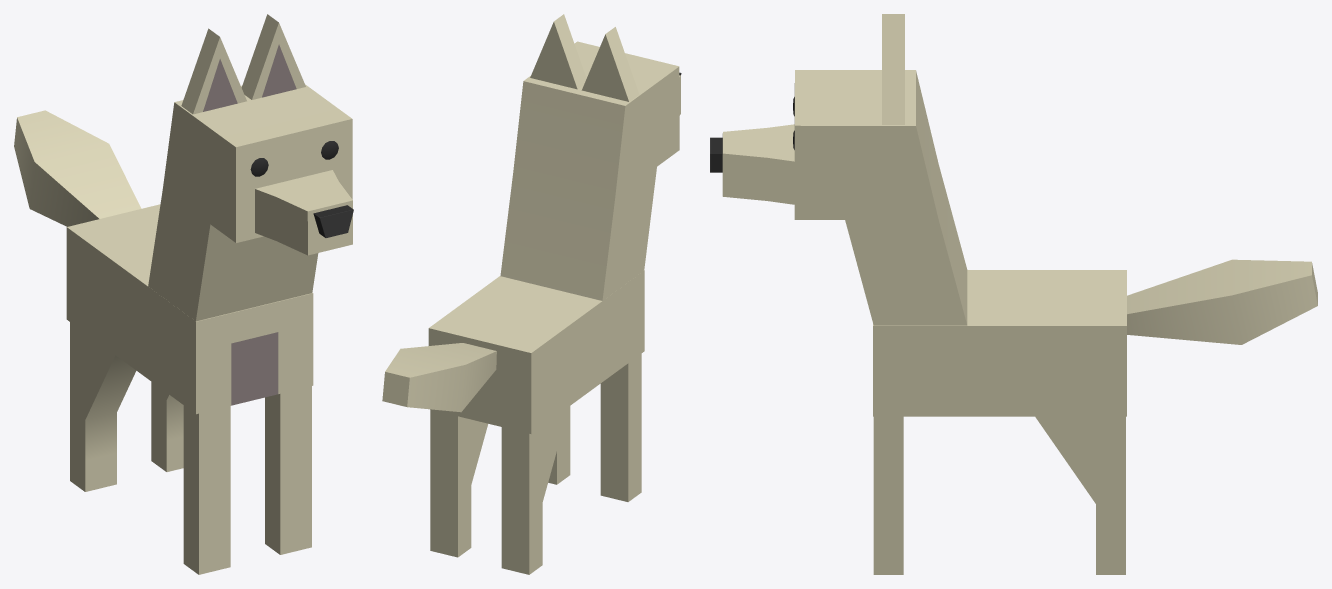
File: BBakGoo.fbx
3 views of the same model, side by side, from view 1: azimuth 30°, elevation 25°; view 2: azimuth 150°, elevation 25°; view 3: azimuth 270°, elevation 25° (orthographic). The views are drawn at different scales.
Visible parts, largest first — view 1: BBackGoo; view 2: BBackGoo; view 3: BBackGoo.
Part boxes in pixels (x1,y1,x2,y2): BBackGoo: [14, 14, 353, 574]; BBackGoo: [382, 14, 681, 574]; BBackGoo: [710, 14, 1317, 574].
Bounding box in the file's own units: 19.73 × 90.28 × 85.06.
